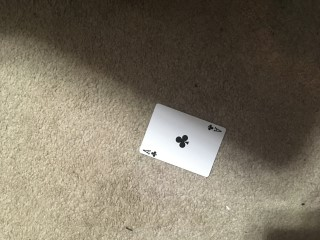AceOfClubs: (139, 103, 227, 178)
